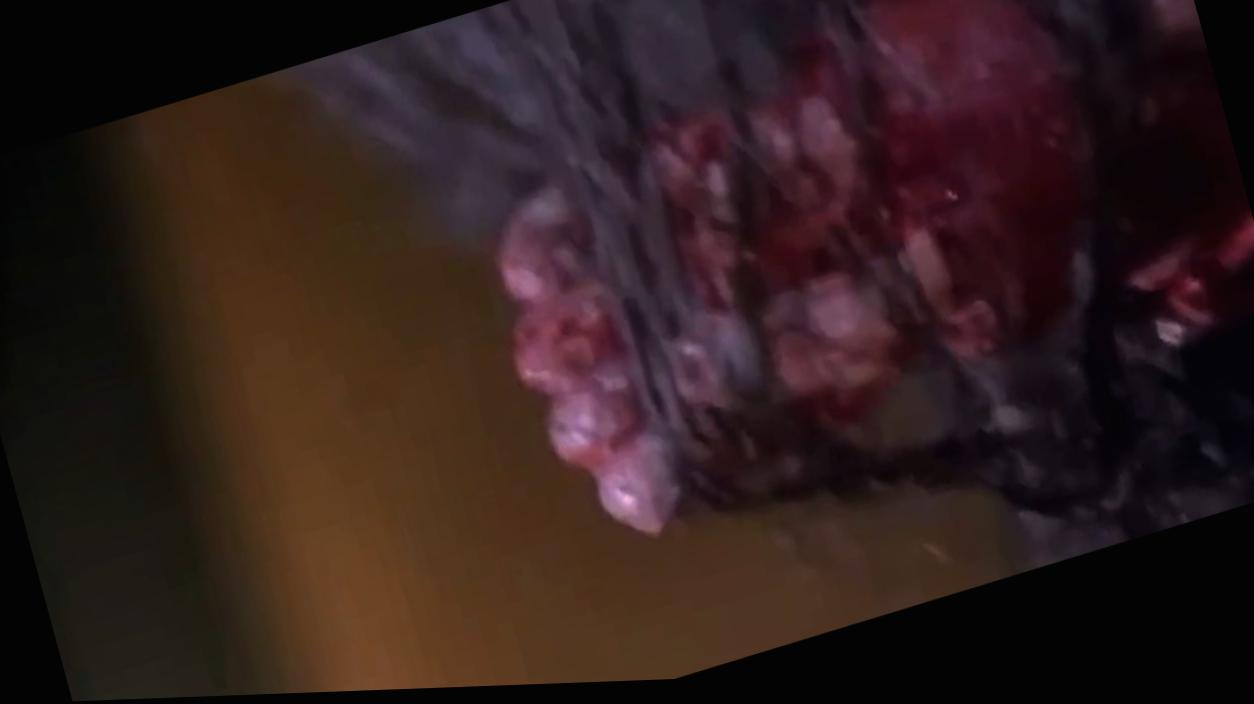Fire: (497, 0, 1254, 540)
